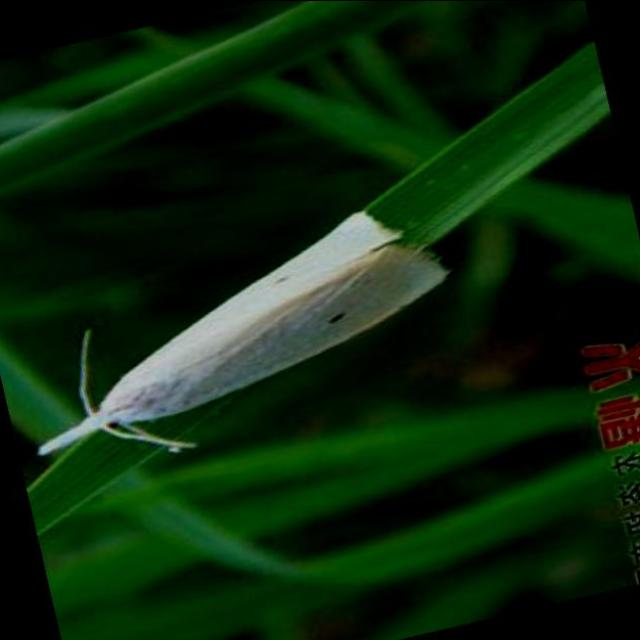stem borer: (38, 211, 447, 454)
